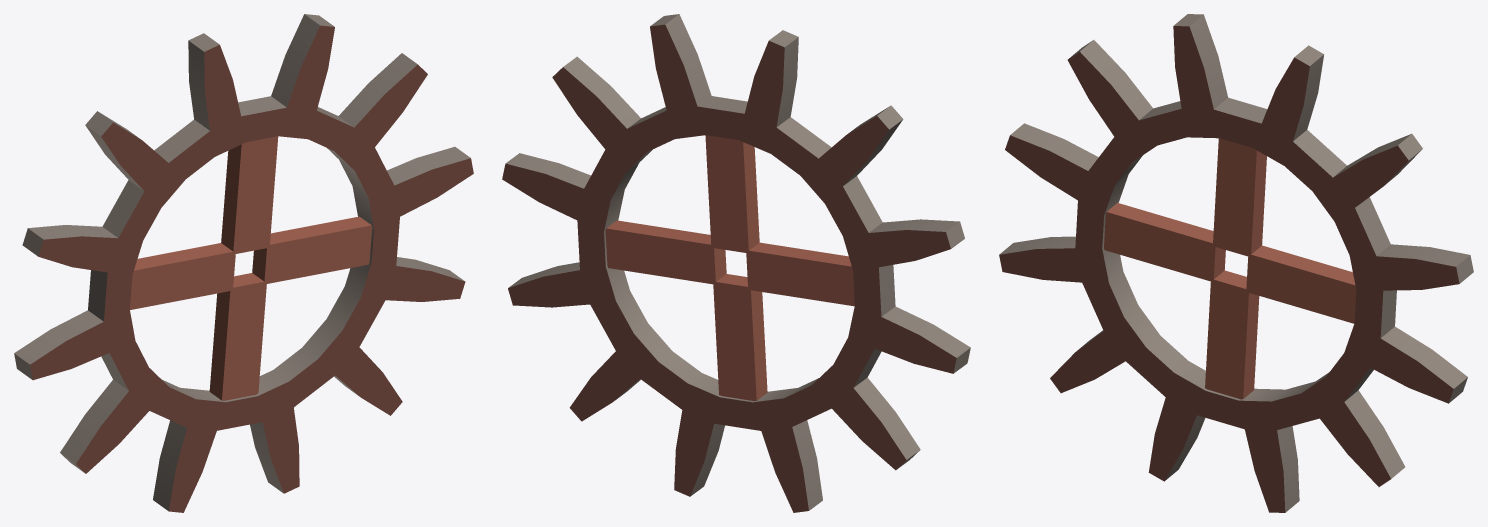
File: Engranaje1.fbx
3 views of the same model, side by side, from view 1: azimuth 30°, elevation 25°; view 2: azimuth 150°, elevation 25°; view 3: azimuth 330°, elevation 25° (orthographic).
Visible parts, largest first — view 1: pasted__pasted__pGear2, pasted__pasted__pCube21, pasted__pasted__pCube20, pasted__pasted__pCube19, pasted__pasted__pCube22; view 2: pasted__pasted__pGear2, pasted__pasted__pCube21, pasted__pasted__pCube20, pasted__pasted__pCube19, pasted__pasted__pCube22; view 3: pasted__pasted__pGear2, pasted__pasted__pCube22, pasted__pasted__pCube21, pasted__pasted__pCube20, pasted__pasted__pCube19.
Part boxes in pixels (left/top/right/bottom): pasted__pasted__pGear2: left=14, top=14, right=473, bottom=512; pasted__pasted__pCube21: left=209, top=273, right=266, bottom=400; pasted__pasted__pCube20: left=252, top=216, right=372, bottom=284; pasted__pasted__pCube19: left=221, top=136, right=278, bottom=254; pasted__pasted__pCube22: left=130, top=243, right=235, bottom=309; pasted__pasted__pGear2: left=502, top=14, right=970, bottom=512; pasted__pasted__pCube21: left=713, top=274, right=767, bottom=400; pasted__pasted__pCube20: left=605, top=220, right=726, bottom=284; pasted__pasted__pCube19: left=705, top=135, right=759, bottom=252; pasted__pasted__pCube22: left=746, top=242, right=854, bottom=306; pasted__pasted__pGear2: left=999, top=14, right=1473, bottom=512; pasted__pasted__pCube22: left=1104, top=203, right=1225, bottom=282; pasted__pasted__pCube21: left=1205, top=270, right=1259, bottom=399; pasted__pasted__pCube20: left=1246, top=245, right=1356, bottom=323; pasted__pasted__pCube19: left=1213, top=138, right=1266, bottom=256.
Bounding box in the file's own units: 13.81 × 13.8 × 1.35.
